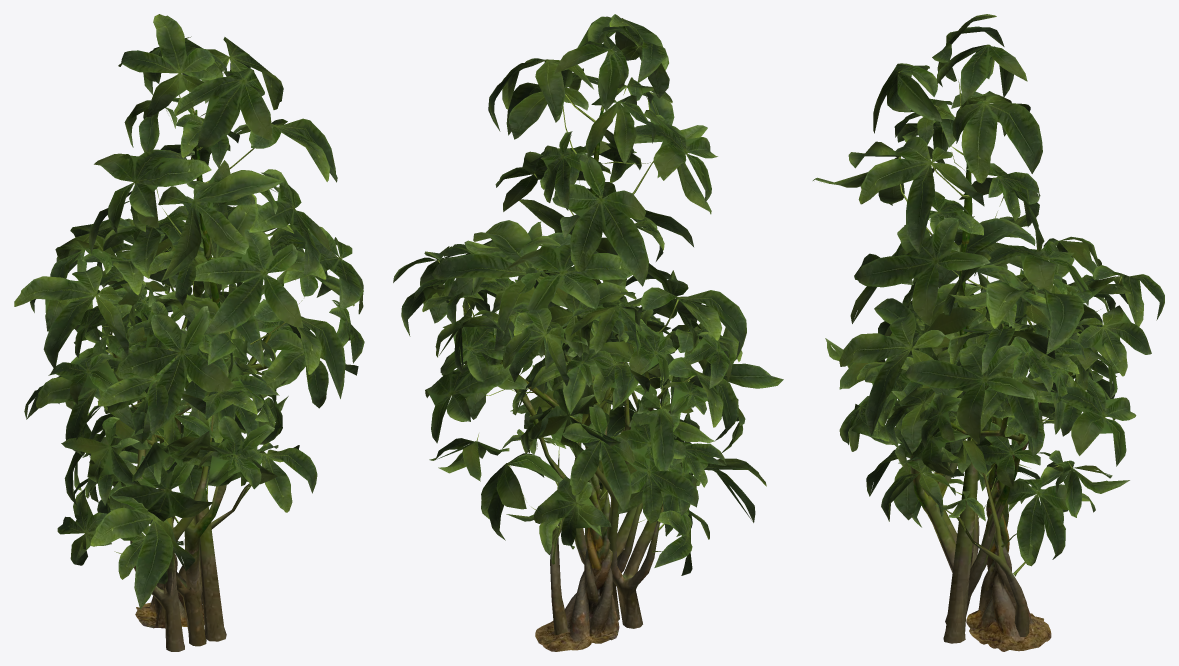
The model's file is pachira_aquatica_01.glb.
The picture shows the model from 3 angles, left to right: view 1: azimuth 30°, elevation 25°; view 2: azimuth 150°, elevation 25°; view 3: azimuth 270°, elevation 25°; orthographic projection.
Visible parts, largest first — view 1: pachira_aquatica_01_leaves_d, pachira_aquatica_01_leaves_d_lo, pachira_aquatica_01_leaves_c, pachira_aquatica_01_leaves_c_lo, pachira_aquatica_01_leaves_a, pachira_aquatica_01_leaves_a_lo, pachira_aquatica_01_bark_d_lo, pachira_aquatica_01_bark_d, pachira_aquatica_01_leaves_b, pachira_aquatica_01_bark_c, pachira_aquatica_01_leaves_b_lo, pachira_aquatica_01_bark_a (+1 smaller); view 2: pachira_aquatica_01_leaves_d, pachira_aquatica_01_leaves_d_lo, pachira_aquatica_01_leaves_c, pachira_aquatica_01_leaves_a, pachira_aquatica_01_leaves_c_lo, pachira_aquatica_01_leaves_a_lo, pachira_aquatica_01_bark_a, pachira_aquatica_01_leaves_b, pachira_aquatica_01_bark_c, pachira_aquatica_01_bark_d, pachira_aquatica_01_leaves_b_lo, pachira_aquatica_01_bark_a_lo (+1 smaller); view 3: pachira_aquatica_01_leaves_d, pachira_aquatica_01_leaves_d_lo, pachira_aquatica_01_leaves_c, pachira_aquatica_01_leaves_a, pachira_aquatica_01_leaves_b, pachira_aquatica_01_bark_d, pachira_aquatica_01_leaves_a_lo, pachira_aquatica_01_leaves_c_lo, pachira_aquatica_01_bark_a, pachira_aquatica_01_leaves_b_lo, pachira_aquatica_01_bark_d_lo, pachira_aquatica_01_bark_a_lo (+1 smaller).
Part boxes in pixels (x1=…): pachira_aquatica_01_leaves_d: x1=14, y1=14, x2=364, y2=583; pachira_aquatica_01_leaves_d_lo: x1=37, y1=17, x2=363, y2=581; pachira_aquatica_01_leaves_c: x1=24, y1=218, x2=354, y2=609; pachira_aquatica_01_leaves_c_lo: x1=26, y1=219, x2=352, y2=570; pachira_aquatica_01_leaves_a: x1=71, y1=194, x2=293, y2=457; pachira_aquatica_01_leaves_a_lo: x1=75, y1=196, x2=293, y2=456; pachira_aquatica_01_bark_d_lo: x1=131, y1=151, x2=268, y2=644; pachira_aquatica_01_bark_d: x1=98, y1=110, x2=283, y2=646; pachira_aquatica_01_leaves_b: x1=121, y1=399, x2=317, y2=523; pachira_aquatica_01_bark_c: x1=110, y1=286, x2=213, y2=651; pachira_aquatica_01_leaves_b_lo: x1=119, y1=399, x2=315, y2=509; pachira_aquatica_01_bark_a: x1=135, y1=348, x2=204, y2=628; pachira_aquatica_01_leaves_d: x1=393, y1=14, x2=746, y2=539; pachira_aquatica_01_leaves_d_lo: x1=394, y1=15, x2=746, y2=538; pachira_aquatica_01_leaves_c: x1=401, y1=267, x2=783, y2=575; pachira_aquatica_01_leaves_a: x1=431, y1=199, x2=713, y2=470; pachira_aquatica_01_leaves_c_lo: x1=404, y1=269, x2=783, y2=566; pachira_aquatica_01_leaves_a_lo: x1=443, y1=200, x2=714, y2=470; pachira_aquatica_01_bark_a: x1=535, y1=375, x2=619, y2=651; pachira_aquatica_01_leaves_b: x1=481, y1=399, x2=676, y2=564; pachira_aquatica_01_bark_c: x1=492, y1=332, x2=694, y2=628; pachira_aquatica_01_bark_d: x1=462, y1=108, x2=666, y2=620; pachira_aquatica_01_leaves_b_lo: x1=481, y1=397, x2=675, y2=541; pachira_aquatica_01_bark_a_lo: x1=535, y1=374, x2=619, y2=651; pachira_aquatica_01_leaves_d: x1=813, y1=14, x2=1164, y2=527; pachira_aquatica_01_leaves_d_lo: x1=829, y1=16, x2=1164, y2=516; pachira_aquatica_01_leaves_c: x1=825, y1=272, x2=1151, y2=520; pachira_aquatica_01_leaves_a: x1=874, y1=218, x2=1102, y2=434; pachira_aquatica_01_leaves_b: x1=881, y1=404, x2=1095, y2=576; pachira_aquatica_01_bark_d: x1=912, y1=166, x2=1025, y2=643; pachira_aquatica_01_leaves_a_lo: x1=874, y1=218, x2=1102, y2=423; pachira_aquatica_01_leaves_c_lo: x1=826, y1=275, x2=1132, y2=495; pachira_aquatica_01_bark_a: x1=966, y1=417, x2=1051, y2=651; pachira_aquatica_01_leaves_b_lo: x1=888, y1=411, x2=1093, y2=564; pachira_aquatica_01_bark_d_lo: x1=920, y1=164, x2=1022, y2=641; pachira_aquatica_01_bark_a_lo: x1=967, y1=416, x2=1051, y2=651.
Bounding box in the file's own units: 1.05 × 1.9 × 0.997.
Materials: 2 (2 with a texture image).
